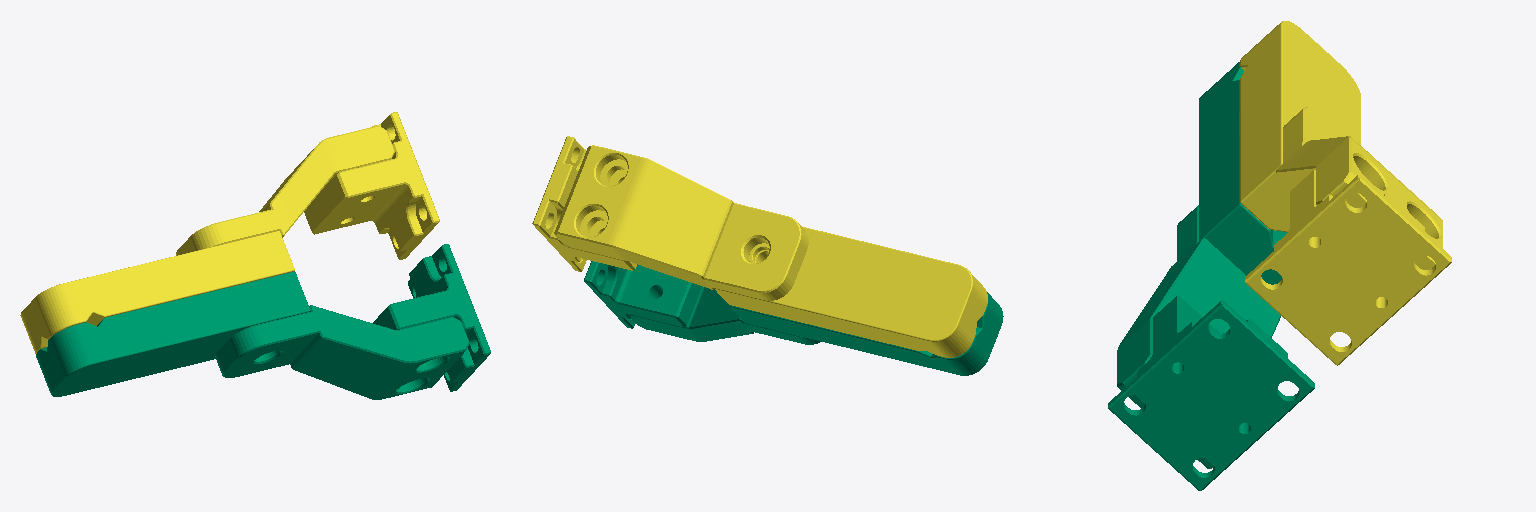
URDF robot description (panda):
<?xml version="1.0" encoding="utf-8"?>
<!-- =================================================================================== -->
<!-- |    This document was autogenerated by xacro from panda_arm_hand.urdf.xacro      | -->
<!-- |    EDITING THIS FILE BY HAND IS NOT RECOMMENDED                                 | -->
<!-- =================================================================================== -->
<robot name="panda">
  <link name="panda_link0">
    <visual>
      <geometry>
        <mesh filename="meshes/visual/link0.dae"/>
      </geometry>
    </visual>
    <collision>
      <origin rpy="0 1.57079632679 0" xyz="-0.075 0 0.06"/>
      <geometry>
        <cylinder length="0.03" radius="0.09"/>
      </geometry>
    </collision>
    <collision>
      <origin rpy="0 0 0" xyz="-0.06 0 0.06"/>
      <geometry>
        <sphere radius="0.09"/>
      </geometry>
    </collision>
    <collision>
      <origin rpy="0 0 0" xyz="-0.09 0 0.06"/>
      <geometry>
        <sphere radius="0.09"/>
      </geometry>
    </collision>
  </link>
  <link name="panda_link1">
    <visual>
      <geometry>
        <mesh filename="meshes/visual/link1.dae"/>
      </geometry>
    </visual>
    <collision>
      <origin rpy="0 0 0" xyz="0 0 -0.1915"/>
      <geometry>
        <cylinder length="0.2830" radius="0.09"/>
      </geometry>
    </collision>
    <collision>
      <origin rpy="0 0 0" xyz="0 0 -0.333"/>
      <geometry>
        <sphere radius="0.09"/>
      </geometry>
    </collision>
    <collision>
      <origin rpy="0 0 0" xyz="0 0 -0.05"/>
      <geometry>
        <sphere radius="0.09"/>
      </geometry>
    </collision>
  </link>
  <joint name="panda_joint1" type="revolute">
    <safety_controller k_position="100.0" k_velocity="40.0" soft_lower_limit="-2.8973" soft_upper_limit="2.8973"/>
    <origin rpy="0 0 0" xyz="0 0 0.333"/>
    <parent link="panda_link0"/>
    <child link="panda_link1"/>
    <axis xyz="0 0 1"/>
    <limit effort="87" lower="-2.8973" upper="2.8973" velocity="2.1750"/>
  </joint>
  <link name="panda_link2">
    <visual>
      <geometry>
        <mesh filename="meshes/visual/link2.dae"/>
      </geometry>
    </visual>
    <collision>
      <origin rpy="0 0 0" xyz="0 0 0"/>
      <geometry>
        <cylinder length="0.12" radius="0.09"/>
      </geometry>
    </collision>
    <collision>
      <origin rpy="0 0 0" xyz="0 0 -0.06"/>
      <geometry>
        <sphere radius="0.09"/>
      </geometry>
    </collision>
    <collision>
      <origin rpy="0 0 0" xyz="0 0 0.06"/>
      <geometry>
        <sphere radius="0.09"/>
      </geometry>
    </collision>
  </link>
  <joint name="panda_joint2" type="revolute">
    <safety_controller k_position="100.0" k_velocity="40.0" soft_lower_limit="-1.7628" soft_upper_limit="1.7628"/>
    <origin rpy="-1.57079632679 0 0" xyz="0 0 0"/>
    <parent link="panda_link1"/>
    <child link="panda_link2"/>
    <axis xyz="0 0 1"/>
    <limit effort="87" lower="-1.7628" upper="1.7628" velocity="2.1750"/>
  </joint>
  <link name="panda_link3">
    <visual>
      <geometry>
        <mesh filename="meshes/visual/link3.dae"/>
      </geometry>
    </visual>
    <collision>
      <origin rpy="0 0 0" xyz="0 0 -0.145"/>
      <geometry>
        <cylinder length="0.15" radius="0.09"/>
      </geometry>
    </collision>
    <collision>
      <origin rpy="0 0 0" xyz="0 0 -0.22"/>
      <geometry>
        <sphere radius="0.09"/>
      </geometry>
    </collision>
    <collision>
      <origin rpy="0 0 0" xyz="0 0 -0.07"/>
      <geometry>
        <sphere radius="0.09"/>
      </geometry>
    </collision>
  </link>
  <joint name="panda_joint3" type="revolute">
    <safety_controller k_position="100.0" k_velocity="40.0" soft_lower_limit="-2.8973" soft_upper_limit="2.8973"/>
    <origin rpy="1.57079632679 0 0" xyz="0 -0.316 0"/>
    <parent link="panda_link2"/>
    <child link="panda_link3"/>
    <axis xyz="0 0 1"/>
    <limit effort="87" lower="-2.8973" upper="2.8973" velocity="2.1750"/>
  </joint>
  <link name="panda_link4">
    <visual>
      <geometry>
        <mesh filename="meshes/visual/link4.dae"/>
      </geometry>
    </visual>
    <collision>
      <origin rpy="0 0 0" xyz="0 0 0"/>
      <geometry>
        <cylinder length="0.12" radius="0.09"/>
      </geometry>
    </collision>
    <collision>
      <origin rpy="0 0 0" xyz="0 0 0.06"/>
      <geometry>
        <sphere radius="0.09"/>
      </geometry>
    </collision>
    <collision>
      <origin rpy="0 0 0" xyz="0 0 -0.06"/>
      <geometry>
        <sphere radius="0.09"/>
      </geometry>
    </collision>
  </link>
  <joint name="panda_joint4" type="revolute">
    <safety_controller k_position="100.0" k_velocity="40.0" soft_lower_limit="-3.0718" soft_upper_limit="-0.0698"/>
    <origin rpy="1.57079632679 0 0" xyz="0.0825 0 0"/>
    <parent link="panda_link3"/>
    <child link="panda_link4"/>
    <axis xyz="0 0 1"/>
    <limit effort="87" lower="-3.0718" upper="-0.0698" velocity="2.1750"/>
  </joint>
  <link name="panda_link5">
    <visual>
      <geometry>
        <mesh filename="meshes/visual/link5.dae"/>
      </geometry>
    </visual>
    <collision>
      <origin rpy="0 0 0" xyz="0 0 -0.26"/>
      <geometry>
        <cylinder length="0.1" radius="0.09"/>
      </geometry>
    </collision>
    <collision>
      <origin rpy="0 0 0" xyz="0 0 -0.31"/>
      <geometry>
        <sphere radius="0.09"/>
      </geometry>
    </collision>
    <collision>
      <origin rpy="0 0 0" xyz="0 0 -0.21"/>
      <geometry>
        <sphere radius="0.09"/>
      </geometry>
    </collision>
    <collision>
      <origin rpy="0 0 0" xyz="0 0.08 -0.13"/>
      <geometry>
        <cylinder length="0.14" radius="0.055"/>
      </geometry>
    </collision>
    <collision>
      <origin rpy="0 0 0" xyz="0 0.08 -0.06"/>
      <geometry>
        <sphere radius="0.055"/>
      </geometry>
    </collision>
    <collision>
      <origin rpy="0 0 0" xyz="0 0.08 -0.20"/>
      <geometry>
        <sphere radius="0.055"/>
      </geometry>
    </collision>
  </link>
  <joint name="panda_joint5" type="revolute">
    <safety_controller k_position="100.0" k_velocity="40.0" soft_lower_limit="-2.8973" soft_upper_limit="2.8973"/>
    <origin rpy="-1.57079632679 0 0" xyz="-0.0825 0.384 0"/>
    <parent link="panda_link4"/>
    <child link="panda_link5"/>
    <axis xyz="0 0 1"/>
    <limit effort="12" lower="-2.8973" upper="2.8973" velocity="2.6100"/>
  </joint>
  <link name="panda_link6">
    <visual>
      <geometry>
        <mesh filename="meshes/visual/link6.dae"/>
      </geometry>
    </visual>
    <collision>
      <origin rpy="0 0 0" xyz="0 0 -0.03"/>
      <geometry>
        <cylinder length="0.08" radius="0.08"/>
      </geometry>
    </collision>
    <collision>
      <origin rpy="0 0 0" xyz="0 0 0.01"/>
      <geometry>
        <sphere radius="0.08"/>
      </geometry>
    </collision>
    <collision>
      <origin rpy="0 0 0" xyz="0 0 -0.07"/>
      <geometry>
        <sphere radius="0.08"/>
      </geometry>
    </collision>
  </link>
  <joint name="panda_joint6" type="revolute">
    <safety_controller k_position="100.0" k_velocity="40.0" soft_lower_limit="-0.0175" soft_upper_limit="3.7525"/>
    <origin rpy="1.57079632679 0 0" xyz="0 0 0"/>
    <parent link="panda_link5"/>
    <child link="panda_link6"/>
    <axis xyz="0 0 1"/>
    <limit effort="12" lower="-0.0175" upper="3.7525" velocity="2.6100"/>
  </joint>
  <link name="panda_link7">
    <visual>
      <geometry>
        <mesh filename="meshes/visual/link7.dae"/>
      </geometry>
    </visual>
    <collision>
      <origin rpy="0 0 0" xyz="0 0 0.01"/>
      <geometry>
        <cylinder length="0.14" radius="0.07"/>
      </geometry>
    </collision>
    <collision>
      <origin rpy="0 0 0" xyz="0 0 0.08"/>
      <geometry>
        <sphere radius="0.07"/>
      </geometry>
    </collision>
    <collision>
      <origin rpy="0 0 0" xyz="0 0 -0.06"/>
      <geometry>
        <sphere radius="0.07"/>
      </geometry>
    </collision>
  </link>
  <joint name="panda_joint7" type="revolute">
    <safety_controller k_position="100.0" k_velocity="40.0" soft_lower_limit="-2.8973" soft_upper_limit="2.8973"/>
    <origin rpy="1.57079632679 0 0" xyz="0.088 0 0"/>
    <parent link="panda_link6"/>
    <child link="panda_link7"/>
    <axis xyz="0 0 1"/>
    <limit effort="12" lower="-2.8973" upper="2.8973" velocity="2.6100"/>
  </joint>
  <link name="panda_link8">
<!--    <collision>-->
<!--      <origin rpy="3.14159265359 1.57079632679 1.57079632679" xyz="0.0424 0.0424 -0.0250"/>-->
<!--      <geometry>-->
<!--        <cylinder length="0.01" radius="0.06"/>-->
<!--      </geometry>-->
<!--    </collision>-->
<!--    <collision>-->
<!--      <origin rpy="0 0 0" xyz="0.0424 0.0424 -0.02"/>-->
<!--      <geometry>-->
<!--        <sphere radius="0.06"/>-->
<!--      </geometry>-->
<!--    </collision>-->
<!--    <collision>-->
<!--      <origin rpy="0 0 0" xyz="0.0424 0.0424 -0.03"/>-->
<!--      <geometry>-->
<!--        <sphere radius="0.06"/>-->
<!--      </geometry>-->
<!--    </collision>-->
  </link>
  <joint name="panda_joint8" type="fixed">
    <origin rpy="0 0 0" xyz="0 0 0.107"/>
    <parent link="panda_link7"/>
    <child link="panda_link8"/>
  </joint>
  <joint name="panda_hand_joint" type="fixed">
    <parent link="panda_link8"/>
    <child link="panda_hand"/>
    <origin rpy="0 0 -0.785398163397" xyz="0 0 0"/>
  </joint>
  <link name="panda_hand">
    <visual>
      <geometry>
        <mesh filename="meshes/visual/hand.dae"/>
      </geometry>
    </visual>
    <collision>
      <origin rpy="0 1.57079632679 1.57079632679" xyz="0 0 0.04"/>
      <geometry>
        <cylinder length="0.1" radius="0.07"/>
      </geometry>
    </collision>
    <collision>
      <origin rpy="0 0 0" xyz="0 -0.05 0.04"/>
      <geometry>
        <sphere radius="0.07"/>
      </geometry>
    </collision>
    <collision>
      <origin rpy="0 0 0" xyz="0 0.05 0.04"/>
      <geometry>
        <sphere radius="0.07"/>
      </geometry>
    </collision>
    <collision>
      <origin rpy="0 1.57079632679 1.57079632679" xyz="0 0 0.1"/>
      <geometry>
        <cylinder length="0.1" radius="0.05"/>
      </geometry>
    </collision>
    <collision>
      <origin rpy="0 0 0" xyz="0 -0.05 0.1"/>
      <geometry>
        <sphere radius="0.05"/>
      </geometry>
    </collision>
    <collision>
      <origin rpy="0 0 0" xyz="0 0.05 0.1"/>
      <geometry>
        <sphere radius="0.05"/>
      </geometry>
    </collision>
  </link>
  <link name="panda_leftfinger">
    <visual>
      <geometry>
        <mesh filename="meshes/visual/finger.dae"/>
      </geometry>
    </visual>
  </link>
  <link name="panda_rightfinger">
    <visual>
      <origin rpy="0 0 3.14159265359" xyz="0 0 0"/>
      <geometry>
        <mesh filename="meshes/visual/finger.dae"/>
      </geometry>
    </visual>
  </link>
  <joint name="panda_finger_joint1" type="prismatic">
    <parent link="panda_hand"/>
    <child link="panda_leftfinger"/>
    <origin rpy="0 0 0" xyz="0 0 0.0584"/>
    <axis xyz="0 1 0"/>
    <limit effort="20" lower="0.0" upper="0.04" velocity="0.2"/>
  </joint>
  <joint name="panda_finger_joint2" type="prismatic">
    <parent link="panda_hand"/>
    <child link="panda_rightfinger"/>
    <origin rpy="0 0 0" xyz="0 0 0.0584"/>
    <axis xyz="0 -1 0"/>
    <limit effort="20" lower="0.0" upper="0.04" velocity="0.2"/>
    <mimic joint="panda_finger_joint1"/>
  </joint>
</robot>

--- What the picture shows (computed from the rendered views, not written in the file) ---
Views: 3 orthographic renders of the robot side by side, from view 1: azimuth 30°, elevation 25°; view 2: azimuth 150°, elevation 25°; view 3: azimuth 270°, elevation 25°.
Model panda with 12 links and 11 joints (7 revolute, 2 prismatic, 2 fixed), rooted at panda_link0, posed joints at zero except 1 at the middle of their limits (panda_joint4 = -1.57).
Links seen in each view (by area): view 1: panda_leftfinger, panda_rightfinger; view 2: panda_rightfinger, panda_leftfinger; view 3: panda_rightfinger, panda_leftfinger.
Boxes of the visible links, <box> form: panda_leftfinger: <box>36,244,490,399</box>; panda_rightfinger: <box>20,112,439,353</box>; panda_rightfinger: <box>532,136,987,357</box>; panda_leftfinger: <box>584,261,1003,375</box>; panda_rightfinger: <box>1240,21,1451,365</box>; panda_leftfinger: <box>1108,62,1314,490</box>.
Bounding box of the posed robot: 0.094 × 0.0546 × 0.0549 m (x, y, z).
2 mesh visuals loaded from 10 distinct referenced files (1 Collada DAE); not drawn: 9 (reference not matched to a file when rendering).